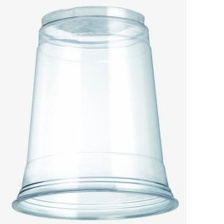glass: (9, 0, 180, 224)
